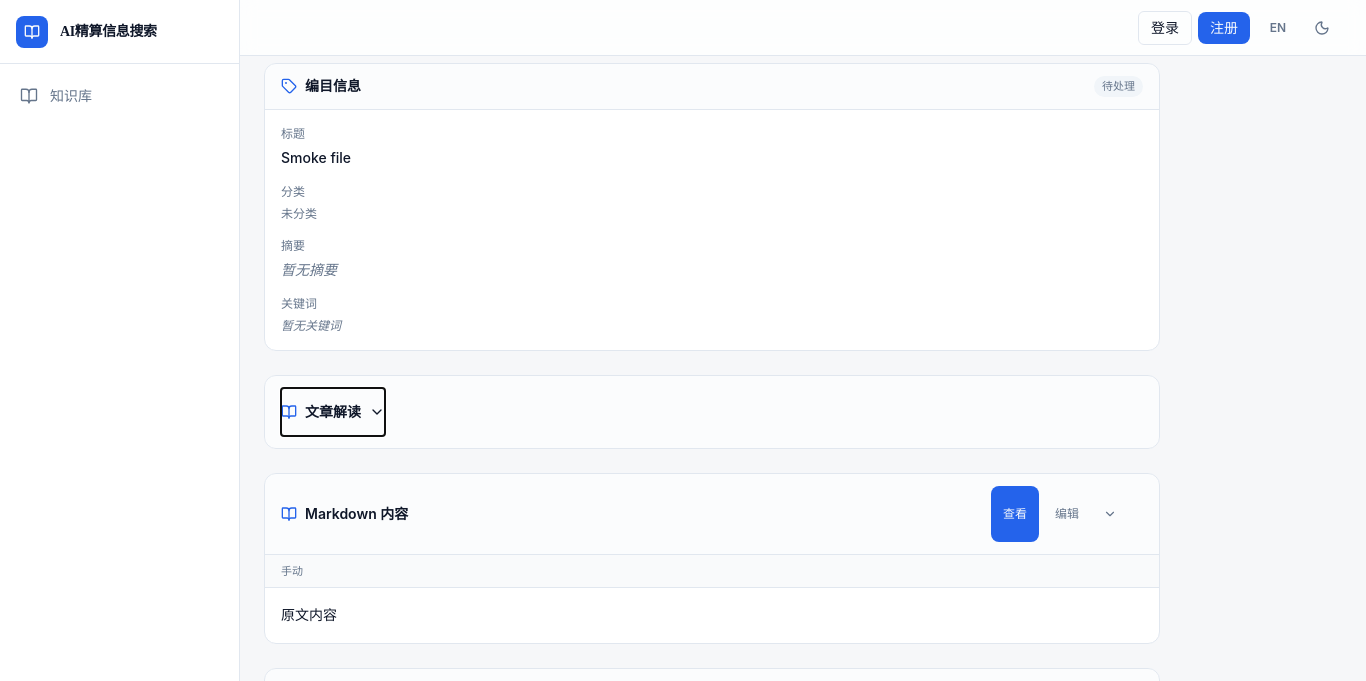
Test: shows the current Chinese interpretation above Markdown and hides it in English
The image size is (1366, 681).
(page scrolled)
Press Enter
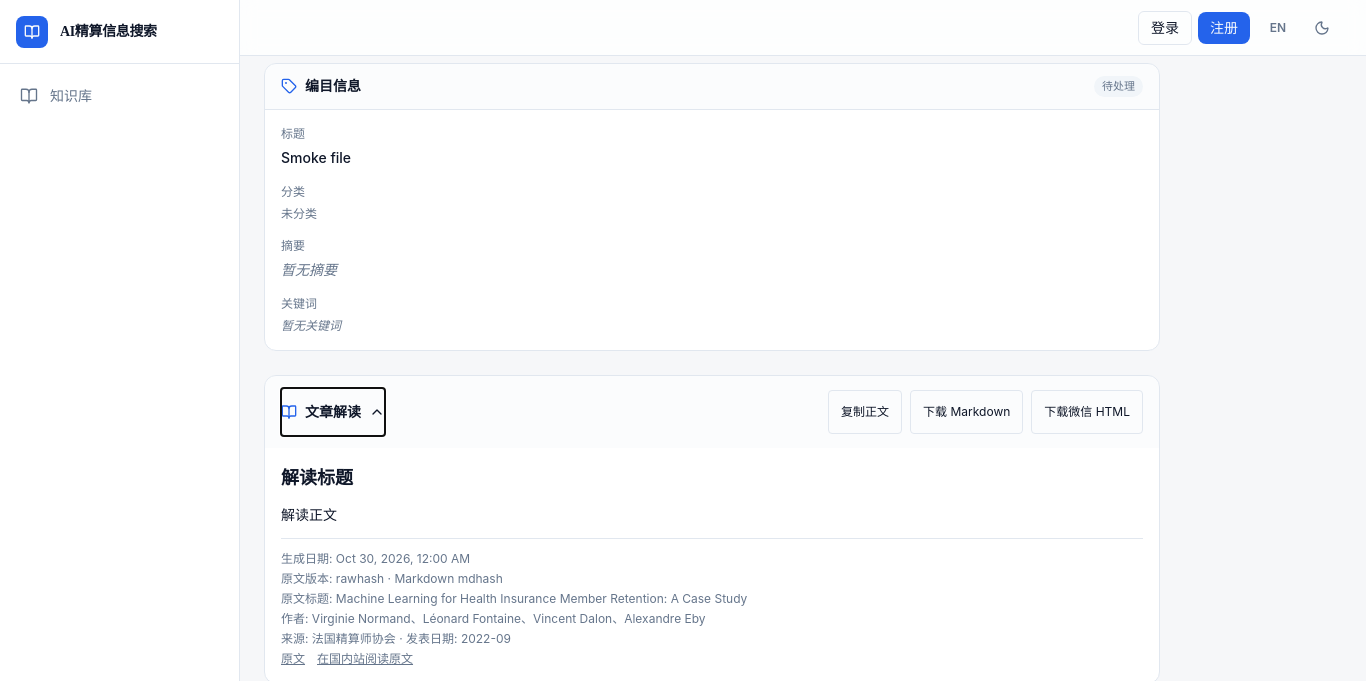
Expected: the text "解读正文" is shown, [281, 506, 337, 522]
Expected: the text "原文标题: Machine Learning for Health Insurance Member Retention: A Case Study" is shown, [281, 591, 747, 606]
Expected: the element with test id "article-interpretation" shows "发表日期: 2022-09", [396, 631, 511, 646]
Click the button titled "Switch language" at (1278, 28), box [1256, 6, 1300, 50]
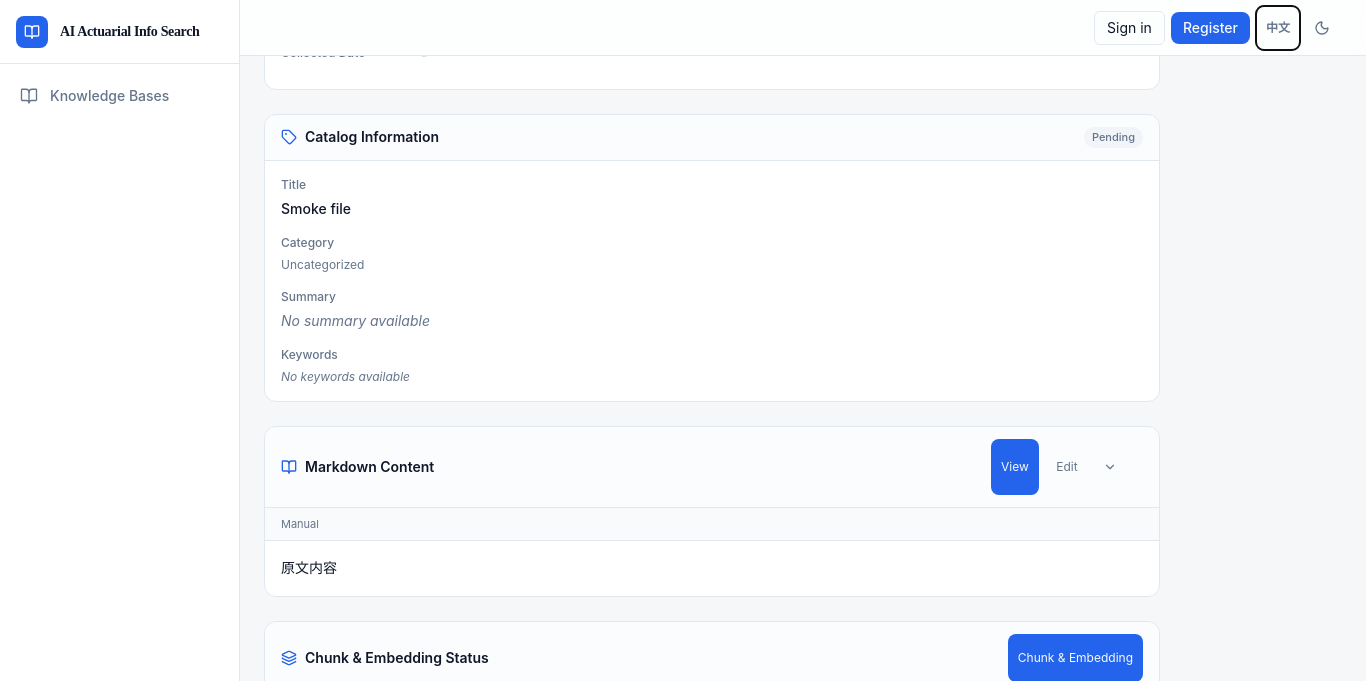
Click the button titled "Switch language" at (1278, 28), box [1256, 6, 1300, 50]
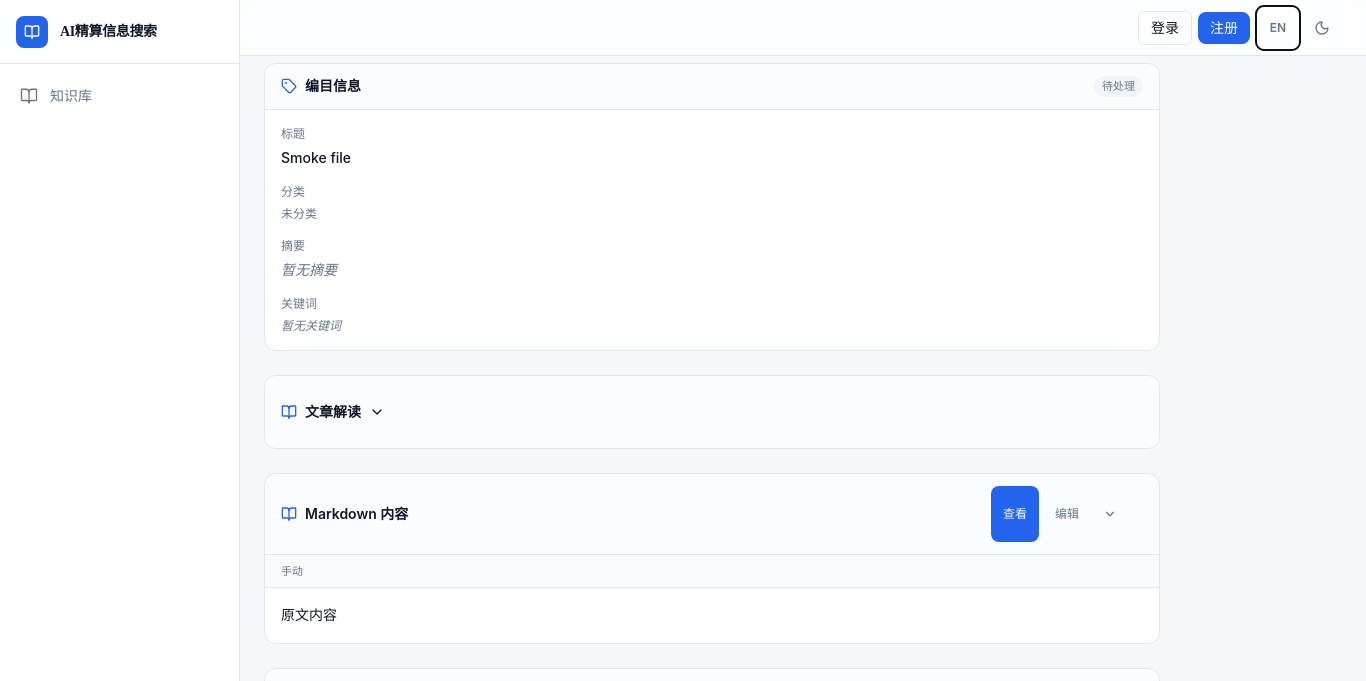
Expected: the element with test id "article-interpretation" is shown, [264, 374, 1160, 448]
